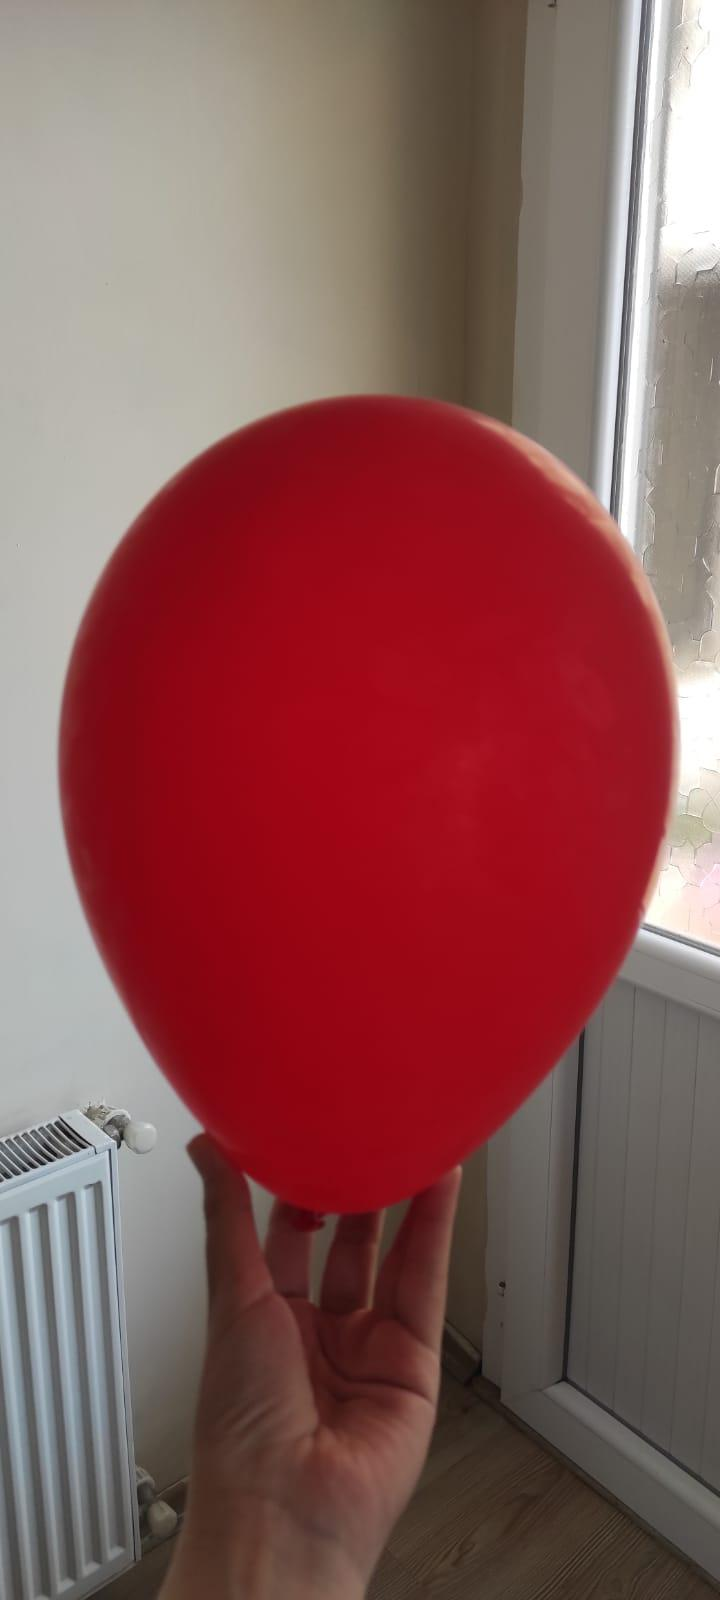red: (54, 384, 691, 1225)
